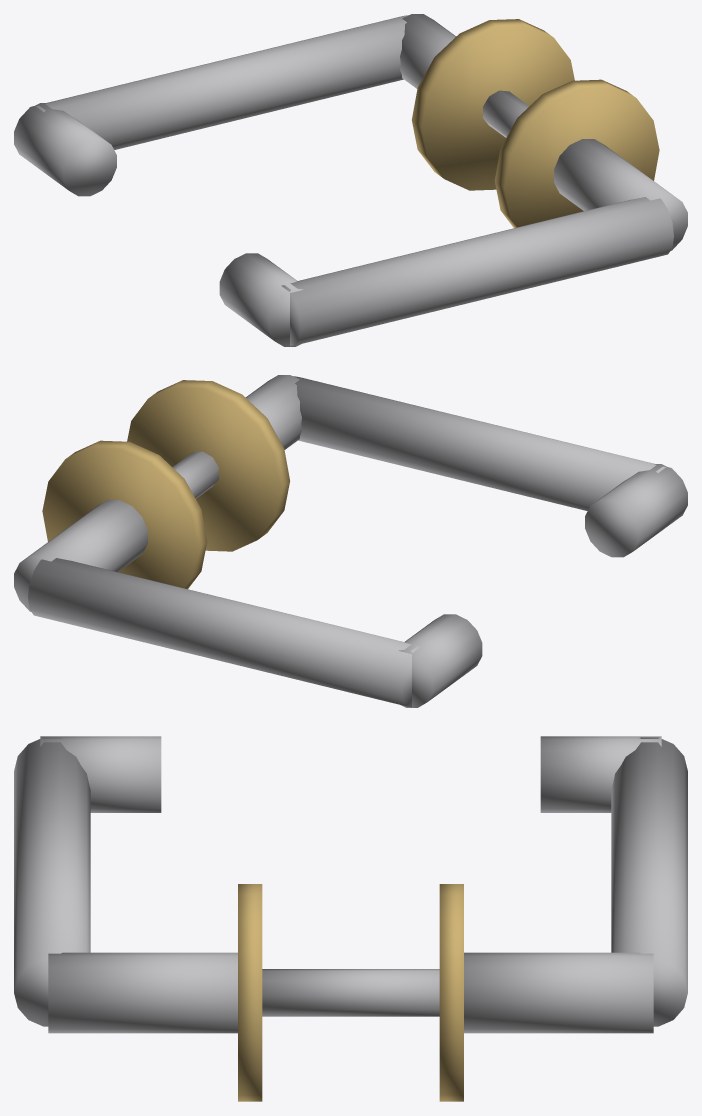
The model's file is lever_handle.glb.
3 renders of one model, top to bottom at view 1: azimuth 30°, elevation 25°; view 2: azimuth 150°, elevation 25°; view 3: azimuth 270°, elevation 25°, orthographic. The views are drawn at different scales.
Parts seen in each view (by area): view 1: lever_handle; view 2: lever_handle; view 3: lever_handle.
Boxes of the visible parts, left/top/right/bottom form: lever_handle: left=14, top=14, right=687, bottom=346; lever_handle: left=14, top=375, right=687, bottom=707; lever_handle: left=14, top=736, right=687, bottom=1101.
Size of the model in its own units: 0.1643 by 0.054 by 0.167.
2 materials, 1 textured.
